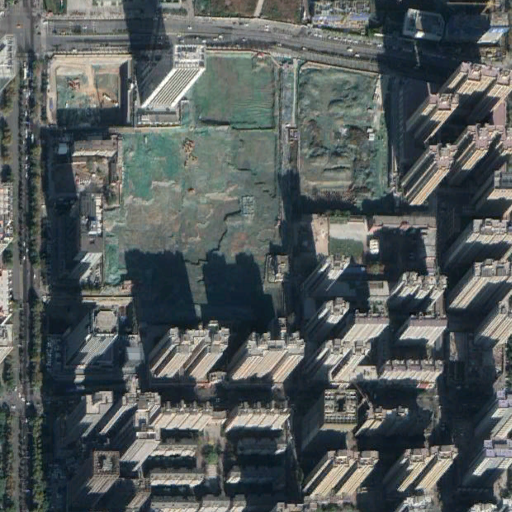cw: (103, 59, 291, 328), (296, 60, 396, 212), (45, 56, 128, 133)
